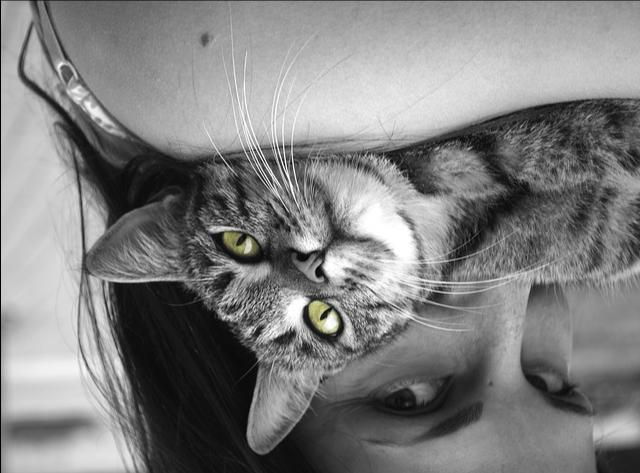cat: (65, 98, 640, 449)
